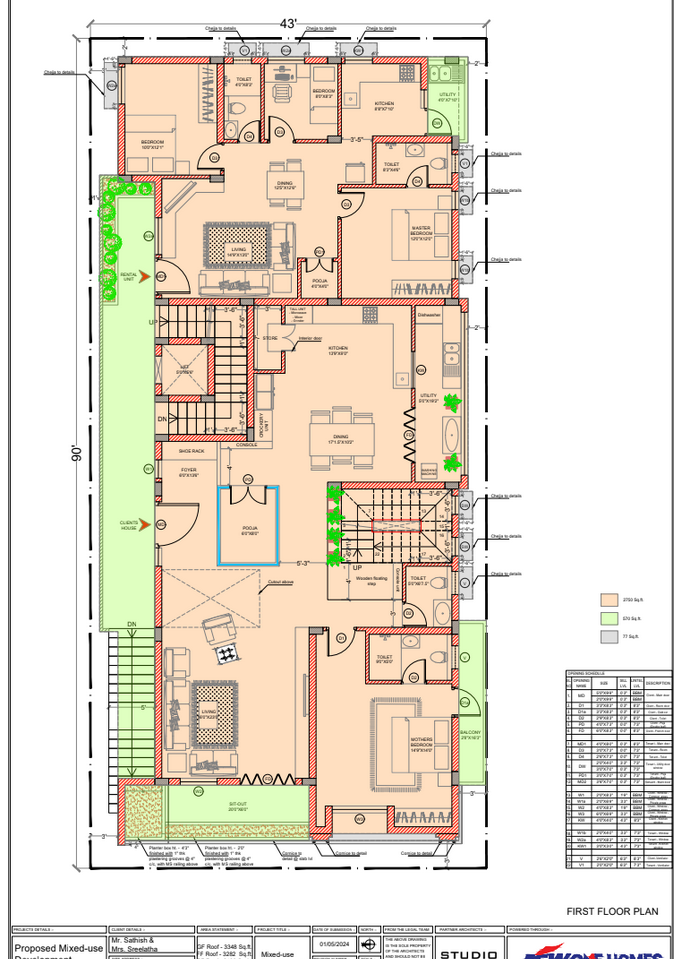door: (155, 502, 200, 547), (154, 258, 191, 293), (327, 628, 356, 658), (267, 114, 296, 142), (339, 192, 366, 219), (426, 108, 452, 135), (197, 143, 222, 170), (401, 658, 427, 683), (403, 601, 428, 626), (237, 118, 260, 142), (406, 164, 429, 186), (248, 486, 267, 508), (230, 486, 248, 507), (319, 258, 334, 274), (305, 258, 319, 273)
